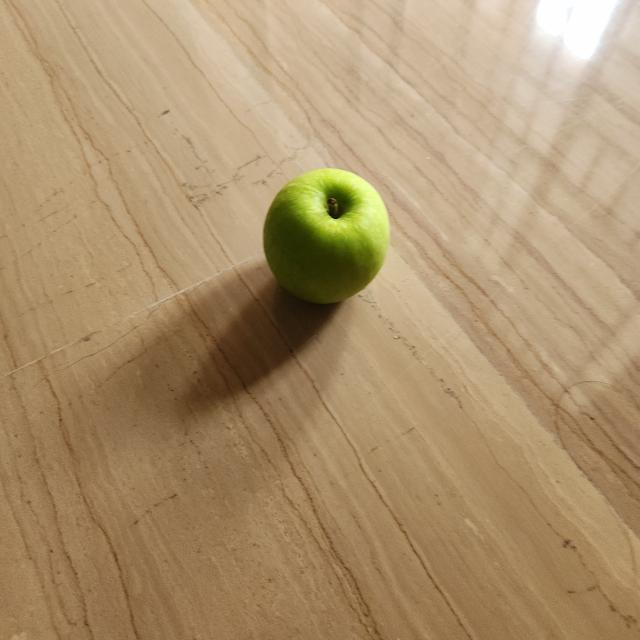apple: (257, 161, 398, 310)
